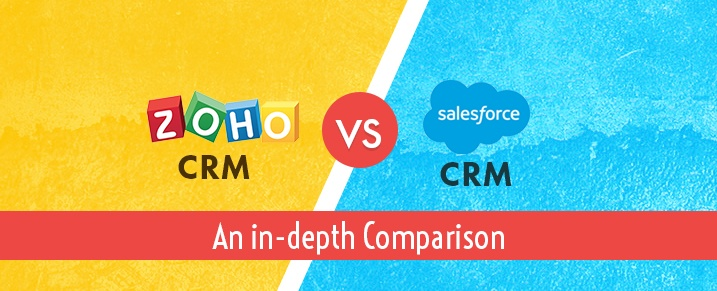zoho: (143, 94, 300, 143)
